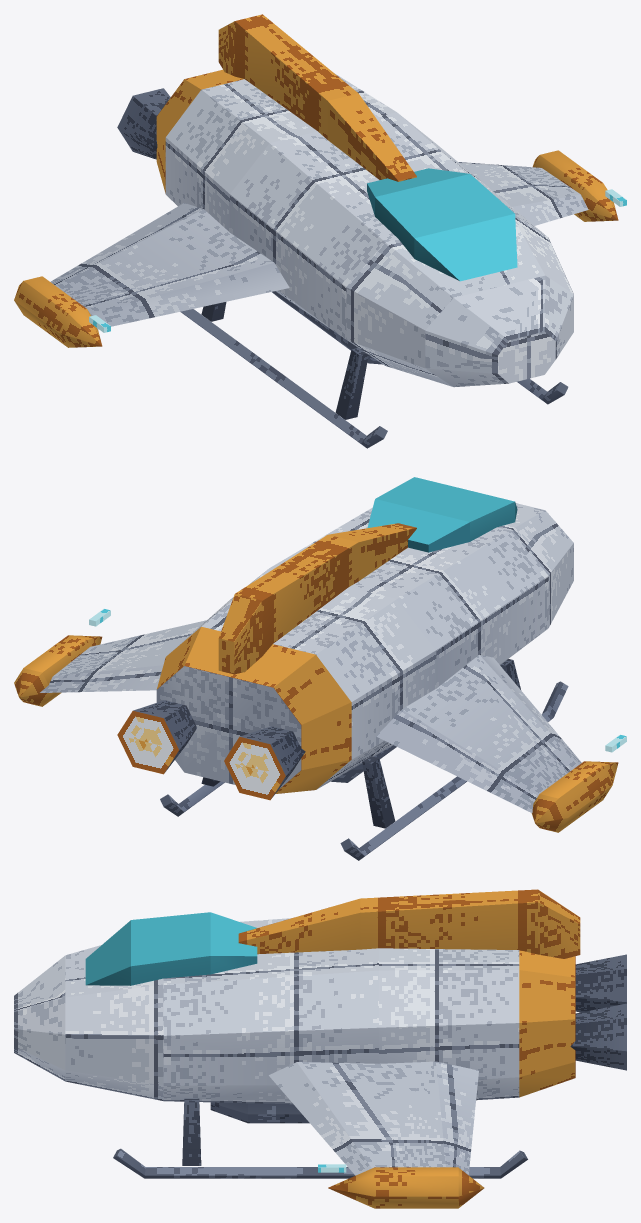
File: ship.shuttle__cargo.glb
The picture shows the model from 3 angles, top to bottom: view 1: azimuth 30°, elevation 25°; view 2: azimuth 150°, elevation 25°; view 3: azimuth 270°, elevation 25°; orthographic projection. The views are drawn at different scales.
Parts seen in each view (by area): view 1: kit_body, kit_wings, kit_spine, kit_canopy, kit_tip_pods, kit_skids, kit_thrusters, kit_struts, kit_cargo_pod; view 2: kit_body, kit_wings, kit_spine, kit_thrusters, kit_canopy, kit_tip_pods, kit_skids, kit_struts; view 3: kit_body, kit_wings, kit_spine, kit_canopy, kit_thrusters, kit_tip_pods, kit_skids, kit_cargo_pod, kit_struts.
Boxes of the visible parts, x1,y1,x2,y2 form: kit_body: [156, 69, 573, 387]; kit_wings: [50, 162, 588, 329]; kit_spine: [218, 14, 416, 181]; kit_canopy: [367, 168, 517, 281]; kit_tip_pods: [14, 150, 618, 347]; kit_skids: [180, 309, 568, 448]; kit_thrusters: [117, 88, 170, 159]; kit_struts: [201, 302, 368, 419]; kit_cargo_pod: [272, 291, 382, 364]; kit_body: [156, 503, 573, 793]; kit_wings: [40, 620, 581, 812]; kit_spine: [218, 523, 416, 674]; kit_thrusters: [117, 700, 305, 800]; kit_canopy: [367, 477, 517, 552]; kit_tip_pods: [14, 635, 618, 832]; kit_skids: [160, 681, 568, 860]; kit_struts: [201, 659, 520, 828]; kit_body: [14, 918, 575, 1104]; kit_wings: [269, 1061, 478, 1175]; kit_spine: [238, 889, 580, 958]; kit_canopy: [85, 912, 257, 985]; kit_thrusters: [570, 954, 626, 1070]; kit_tip_pods: [328, 1167, 484, 1208]; kit_skids: [113, 1148, 527, 1178]; kit_cargo_pod: [210, 1102, 309, 1123]; kit_struts: [182, 1098, 201, 1165].
Size of the model in its own units: 6.44 by 2.84 by 6.55.
Materials: 8 (7 with a texture image).
